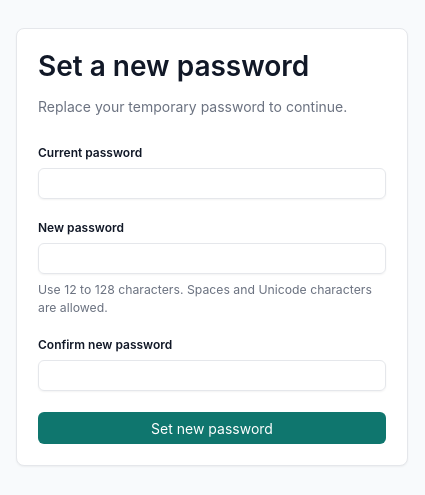
Scenario: required password change page › rejects a replacement equal to the current password
Type "same password 2026!" into the password field labelled "Current password" at (212, 184), box [38,168,386,199]
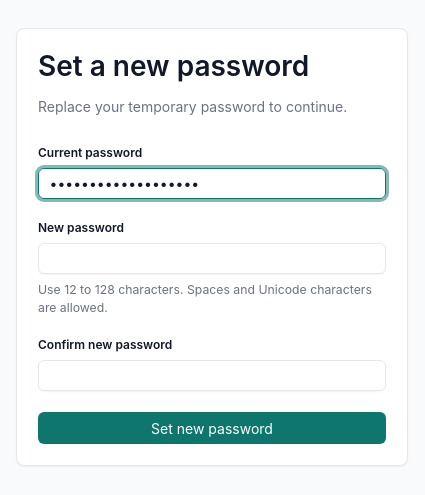
Type "same password 2026!" into the password field labelled "New password" at (212, 259), box [38,243,386,274]
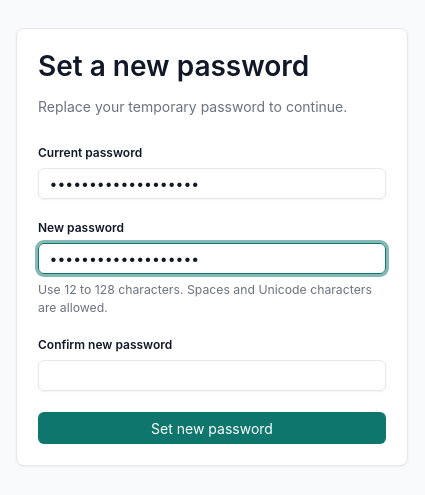
Type "same password 2026!" into the password field labelled "Confirm new password" at (212, 376), box [38,360,386,392]
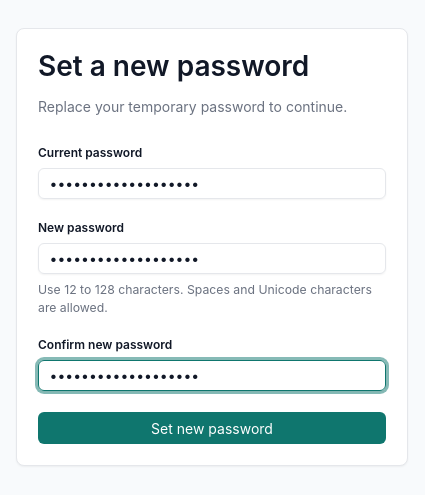
Click the button "Set new password" at (212, 428), box [38,412,386,444]
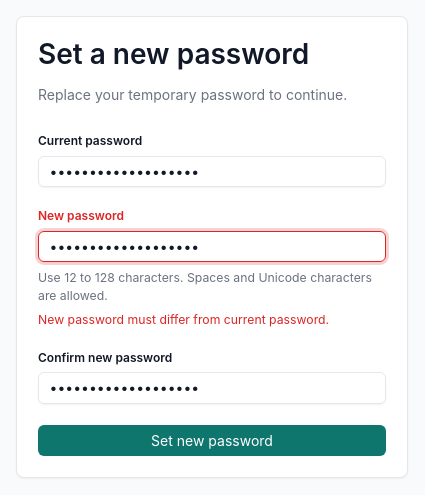
Result: the message reads "New password must differ from current password." at [38,312,329,327]
